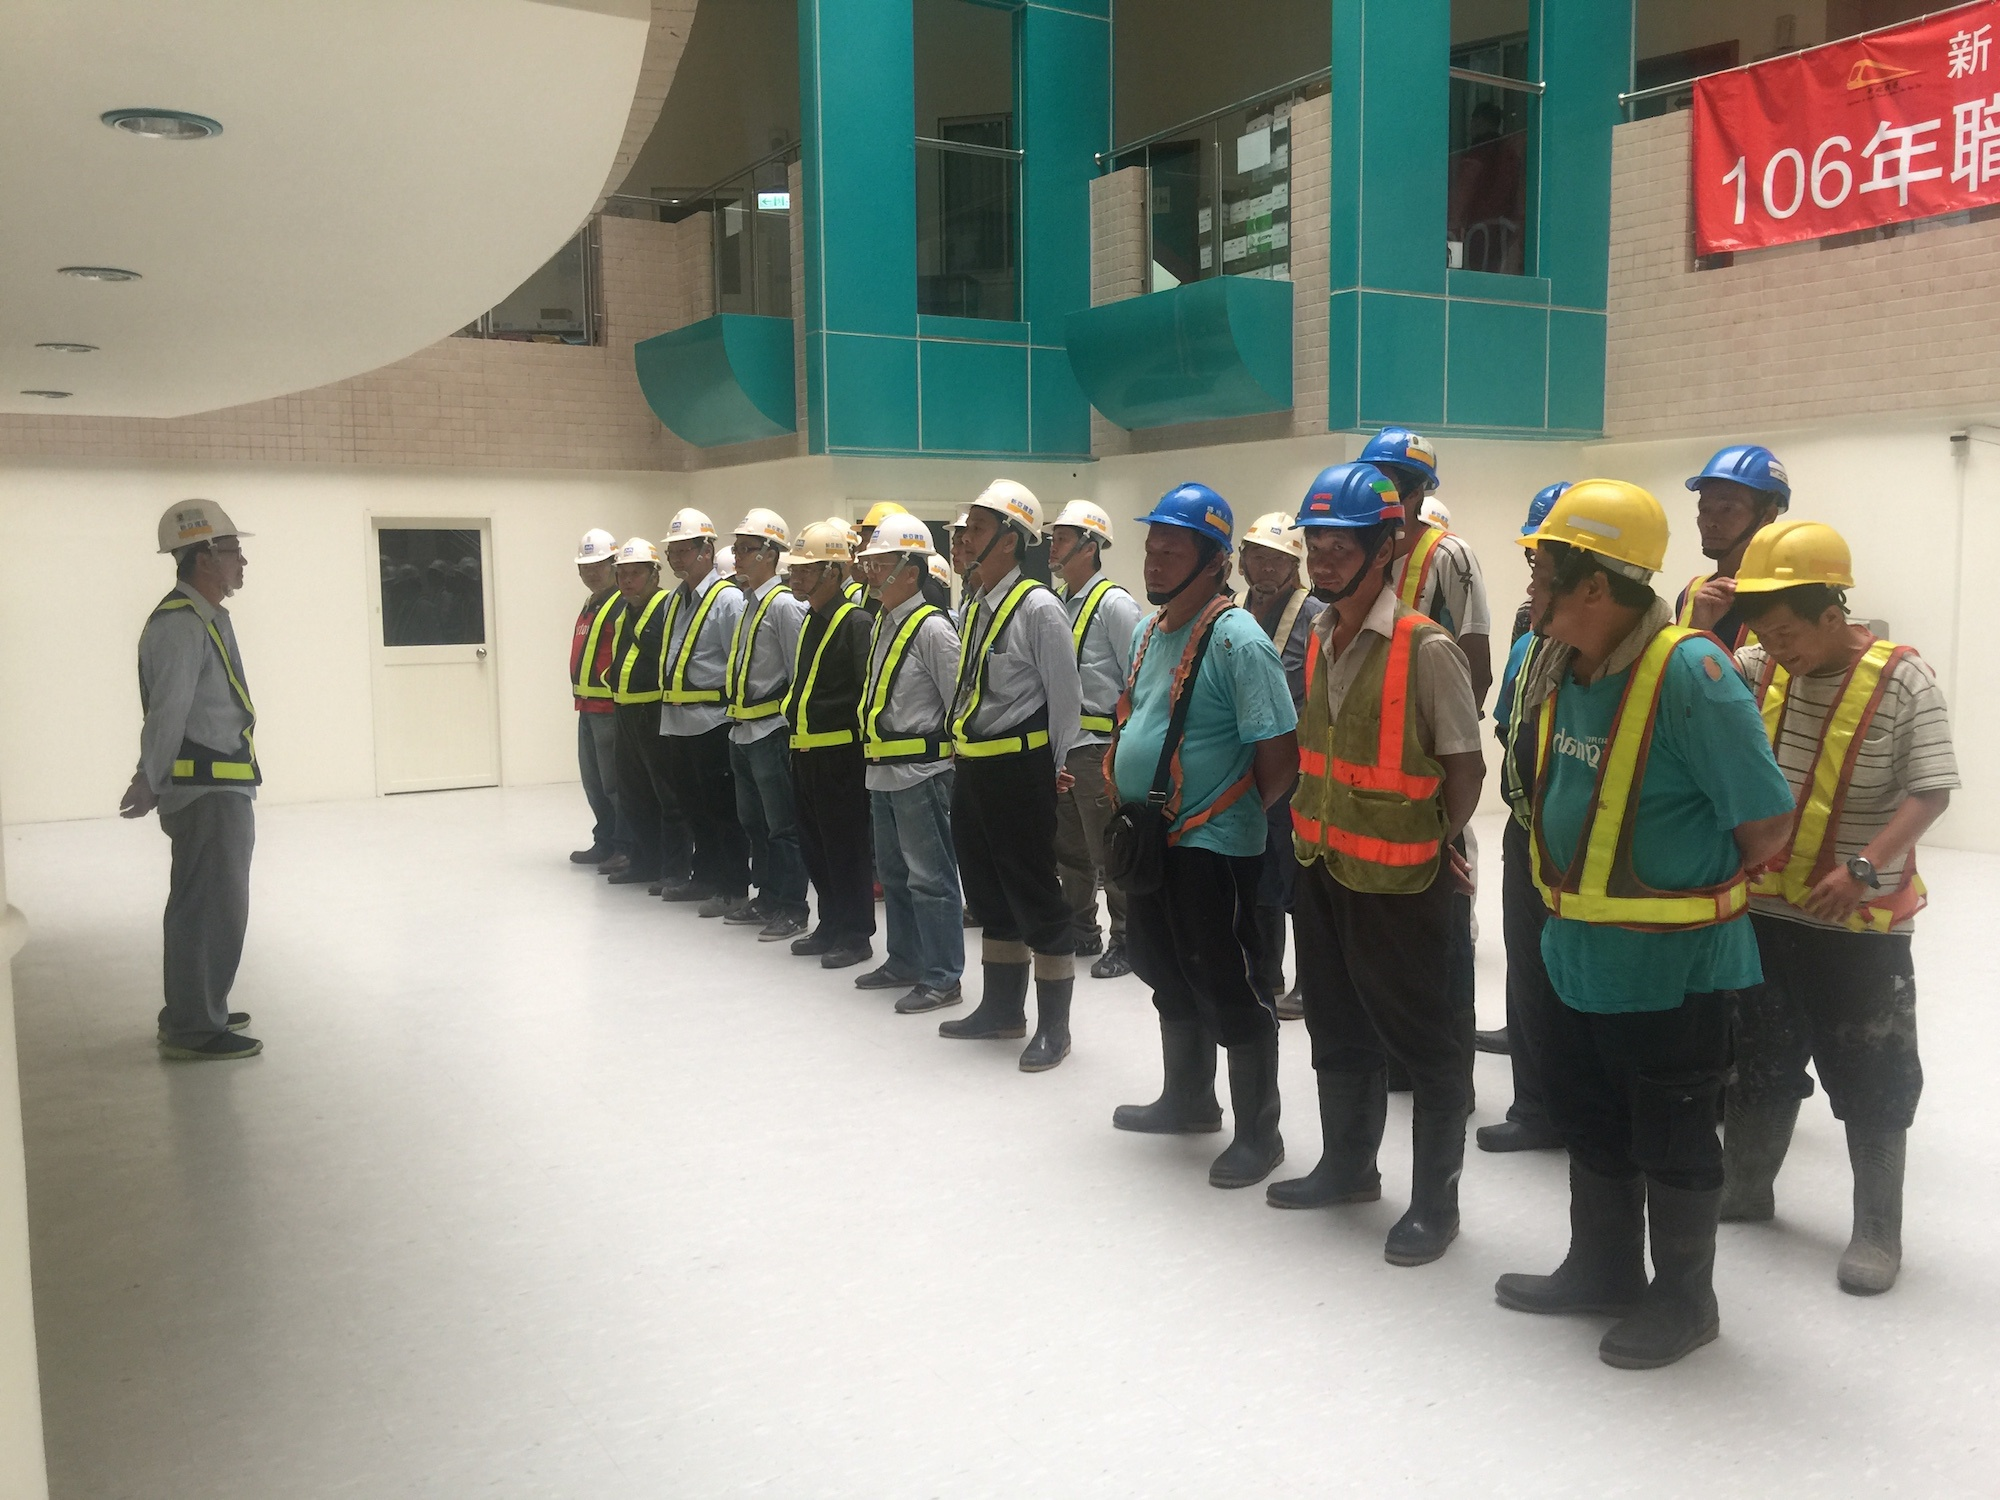blue: (1294, 463, 1409, 603), (1688, 440, 1794, 564), (1132, 484, 1235, 607), (1362, 422, 1438, 522)
white: (154, 499, 249, 596), (964, 477, 1039, 570), (1043, 498, 1113, 583), (860, 518, 931, 602), (1236, 509, 1301, 599), (781, 523, 847, 607), (658, 504, 720, 580), (731, 511, 789, 583), (609, 536, 665, 607), (569, 525, 617, 591)
yellow: (1517, 477, 1672, 641), (1728, 523, 1857, 674)
